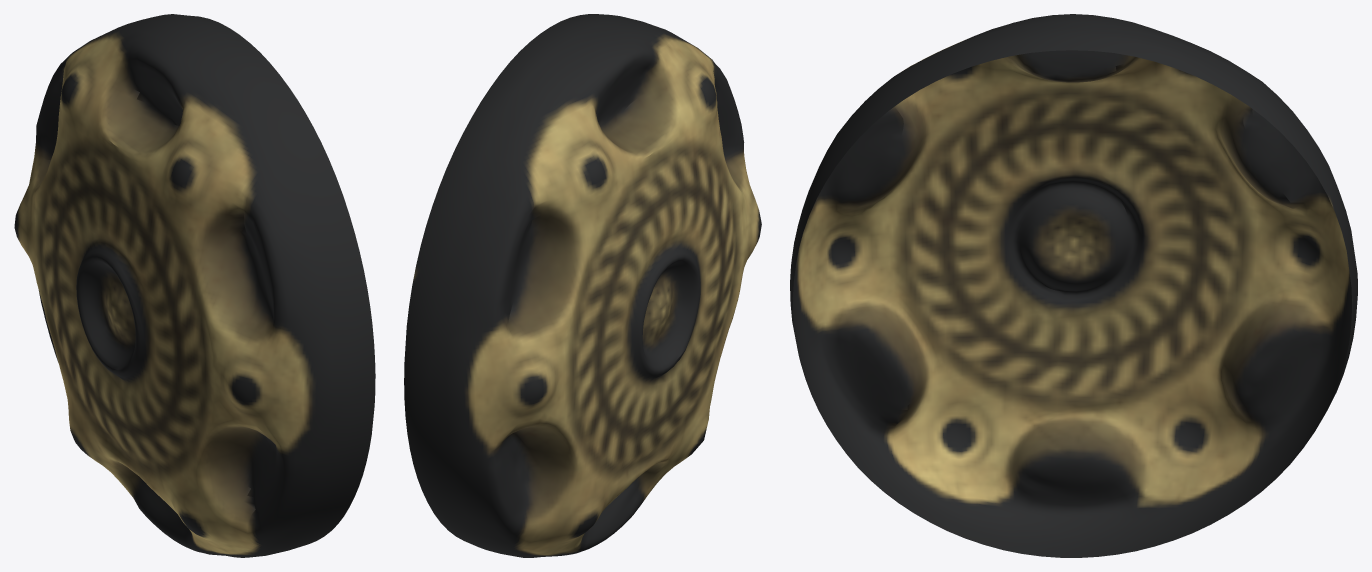
The model's file is SM_MetalPanel_06.fbx.
3 views of the same model, side by side, from view 1: azimuth 30°, elevation 25°; view 2: azimuth 150°, elevation 25°; view 3: azimuth 270°, elevation 25° (orthographic). The views are drawn at different scales.
Parts seen in each view (by area): view 1: SM_MetalPanel_06_LOD0; view 2: SM_MetalPanel_06_LOD0; view 3: SM_MetalPanel_06_LOD0.
Boxes of the visible parts, box(x1,y1,x2,y2) form: SM_MetalPanel_06_LOD0: box(14, 14, 375, 557); SM_MetalPanel_06_LOD0: box(404, 14, 761, 557); SM_MetalPanel_06_LOD0: box(790, 14, 1357, 557).
Size of the model in its own units: 14.12 by 50.53 by 50.49.
